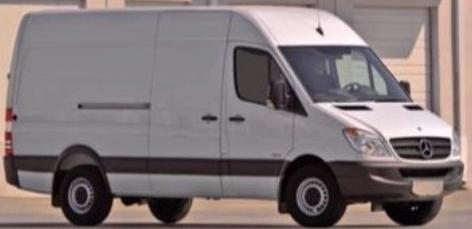front_view: (333, 113, 472, 204)
headlight: (333, 115, 398, 169)
side_glass: (144, 34, 307, 111)
